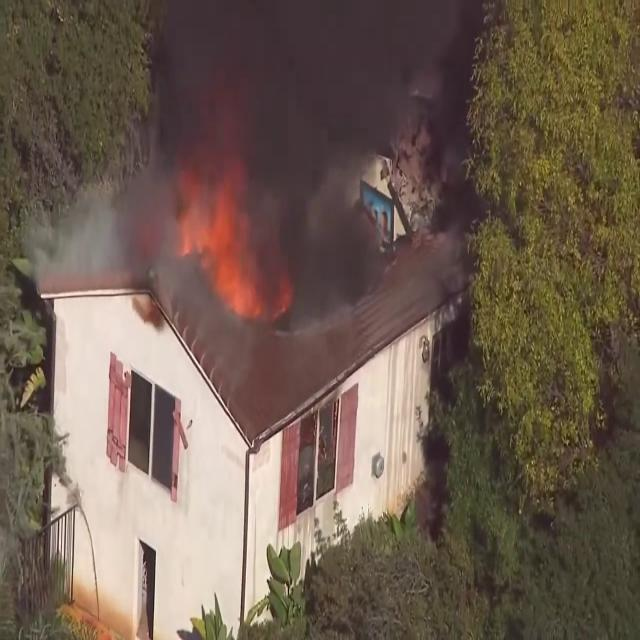Fire: (180, 166, 262, 321)
Smoke: (80, 1, 487, 328)
